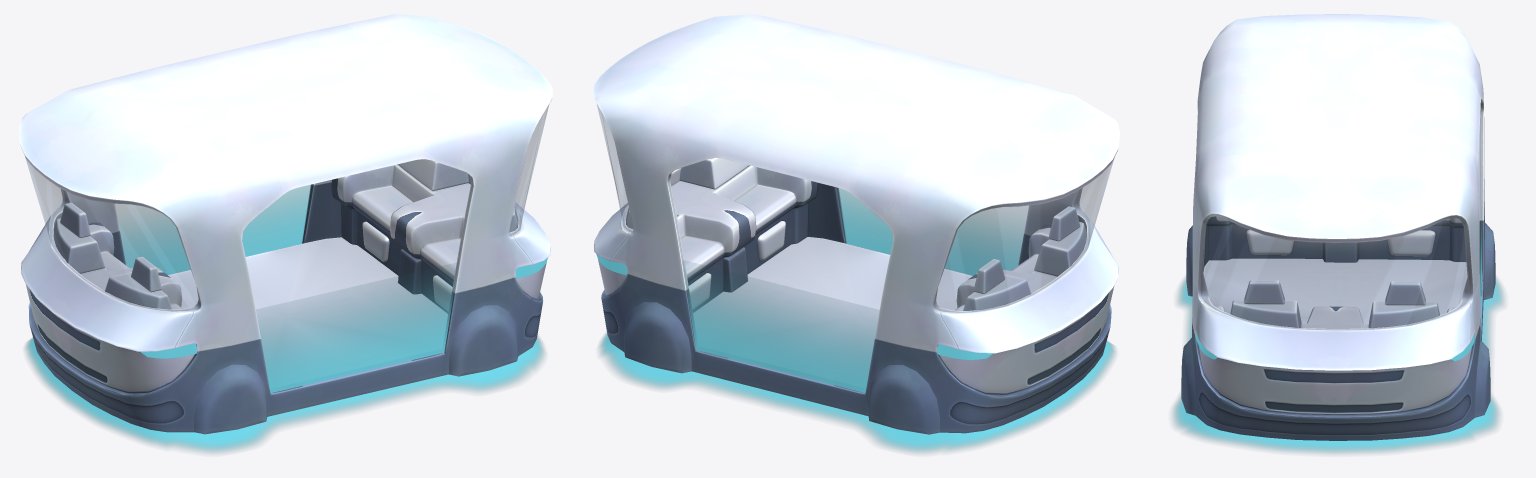
File: obj_shuttle02.gltf
The picture shows the model from 3 angles, left to right: view 1: azimuth 30°, elevation 25°; view 2: azimuth 150°, elevation 25°; view 3: azimuth 270°, elevation 25°; orthographic projection. The views are drawn at different scales.
Parts seen in each view (by area): view 1: obj_shuttle02_mesh, obj_shuttle02_shield02, obj_shuttle02_shield01; view 2: obj_shuttle02_mesh, obj_shuttle02_shield01, obj_shuttle02_shield02; view 3: obj_shuttle02_mesh.
Part boxes in pixels (x1,y1,x2,y2): obj_shuttle02_mesh: [19, 14, 552, 453]; obj_shuttle02_shield02: [256, 265, 457, 393]; obj_shuttle02_shield01: [117, 185, 311, 274]; obj_shuttle02_mesh: [593, 14, 1119, 453]; obj_shuttle02_shield01: [683, 262, 878, 392]; obj_shuttle02_shield02: [838, 188, 1026, 275]; obj_shuttle02_mesh: [1172, 14, 1504, 453].
Size of what is drawn, in the model's own units: 5.99 by 3.22 by 4.12.
3 materials, 3 textured.
